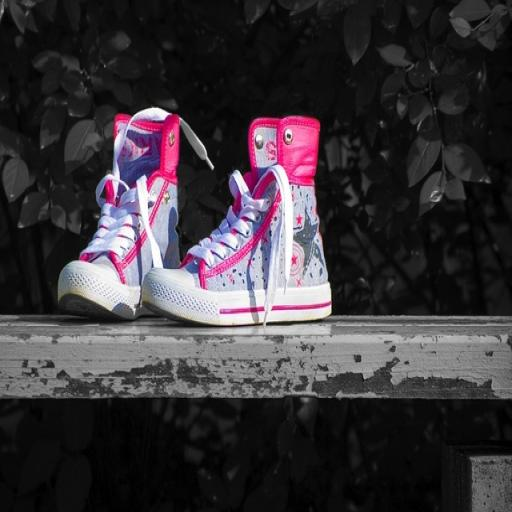shoe: (142, 116, 331, 325), (58, 108, 212, 320)
